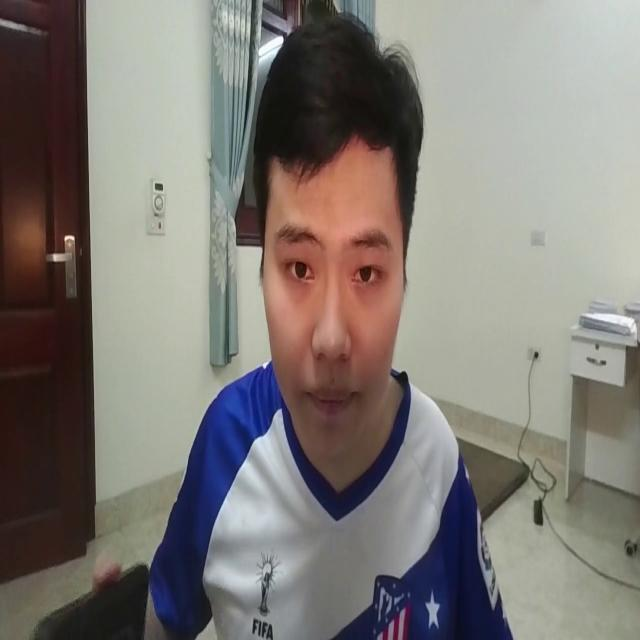phone: (27, 557, 172, 640)
student: (120, 2, 528, 640)
